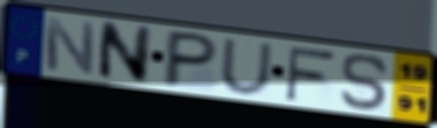F: (283, 44, 338, 102)
N: (95, 19, 155, 86), (42, 15, 97, 78)
P: (159, 28, 222, 89)
S: (338, 51, 392, 113)
U: (218, 37, 275, 98)
